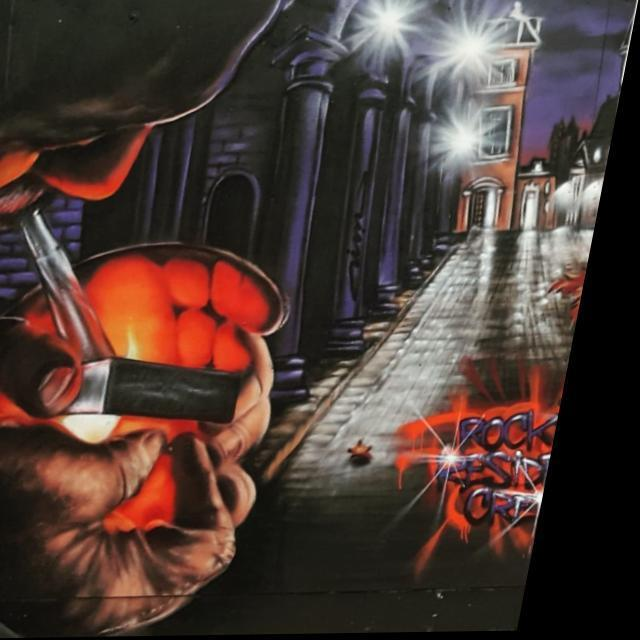-: (0, 0, 359, 632), (382, 4, 638, 261)
